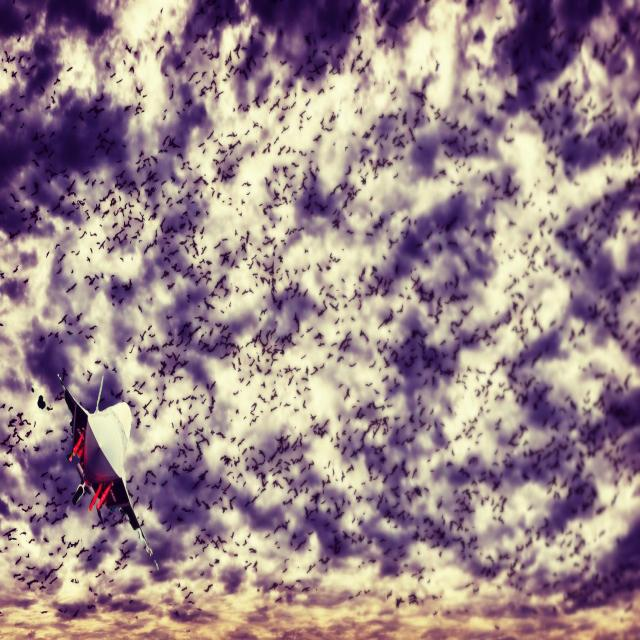airplane: (55, 372, 154, 560)
